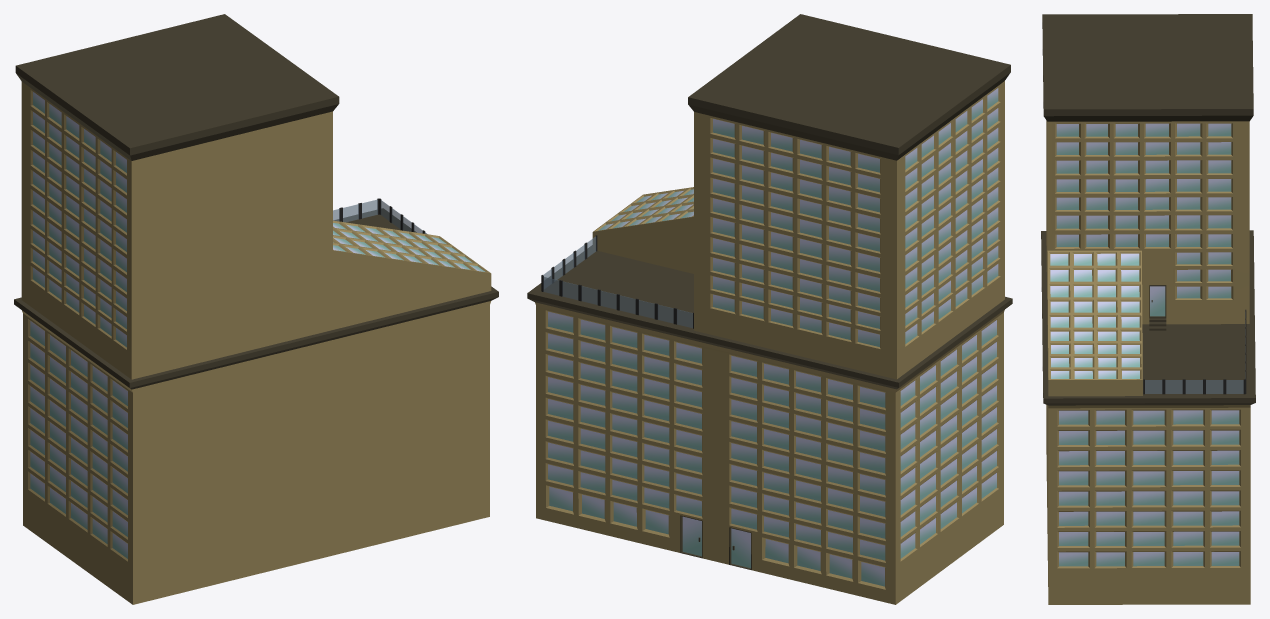
The model's file is Building9WTextures.fbx.
The picture shows the model from 3 angles, left to right: view 1: azimuth 30°, elevation 25°; view 2: azimuth 150°, elevation 25°; view 3: azimuth 270°, elevation 25°; orthographic projection. The views are drawn at different scales.
Visible parts, largest first — view 1: polySurface20, polySurface15; view 2: polySurface20, polySurface15, polySurface16; view 3: polySurface20, polySurface15, polySurface16.
Part boxes in pixels (<box>): polySurface20: <box>14,14,498,604</box>; polySurface15: <box>333,199,427,234</box>; polySurface20: <box>527,14,1012,604</box>; polySurface15: <box>543,236,692,328</box>; polySurface16: <box>541,235,693,328</box>; polySurface20: <box>1041,14,1255,604</box>; polySurface15: <box>1145,380,1243,393</box>; polySurface16: <box>1143,309,1246,394</box>.
Bounding box in the file's own units: 4.37 × 5.17 × 2.36.
